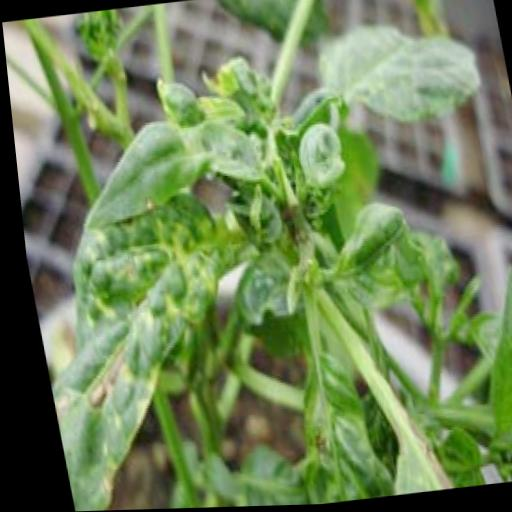Mosaic Virus: (17, 184, 267, 512), (279, 350, 385, 506), (303, 200, 430, 328)
